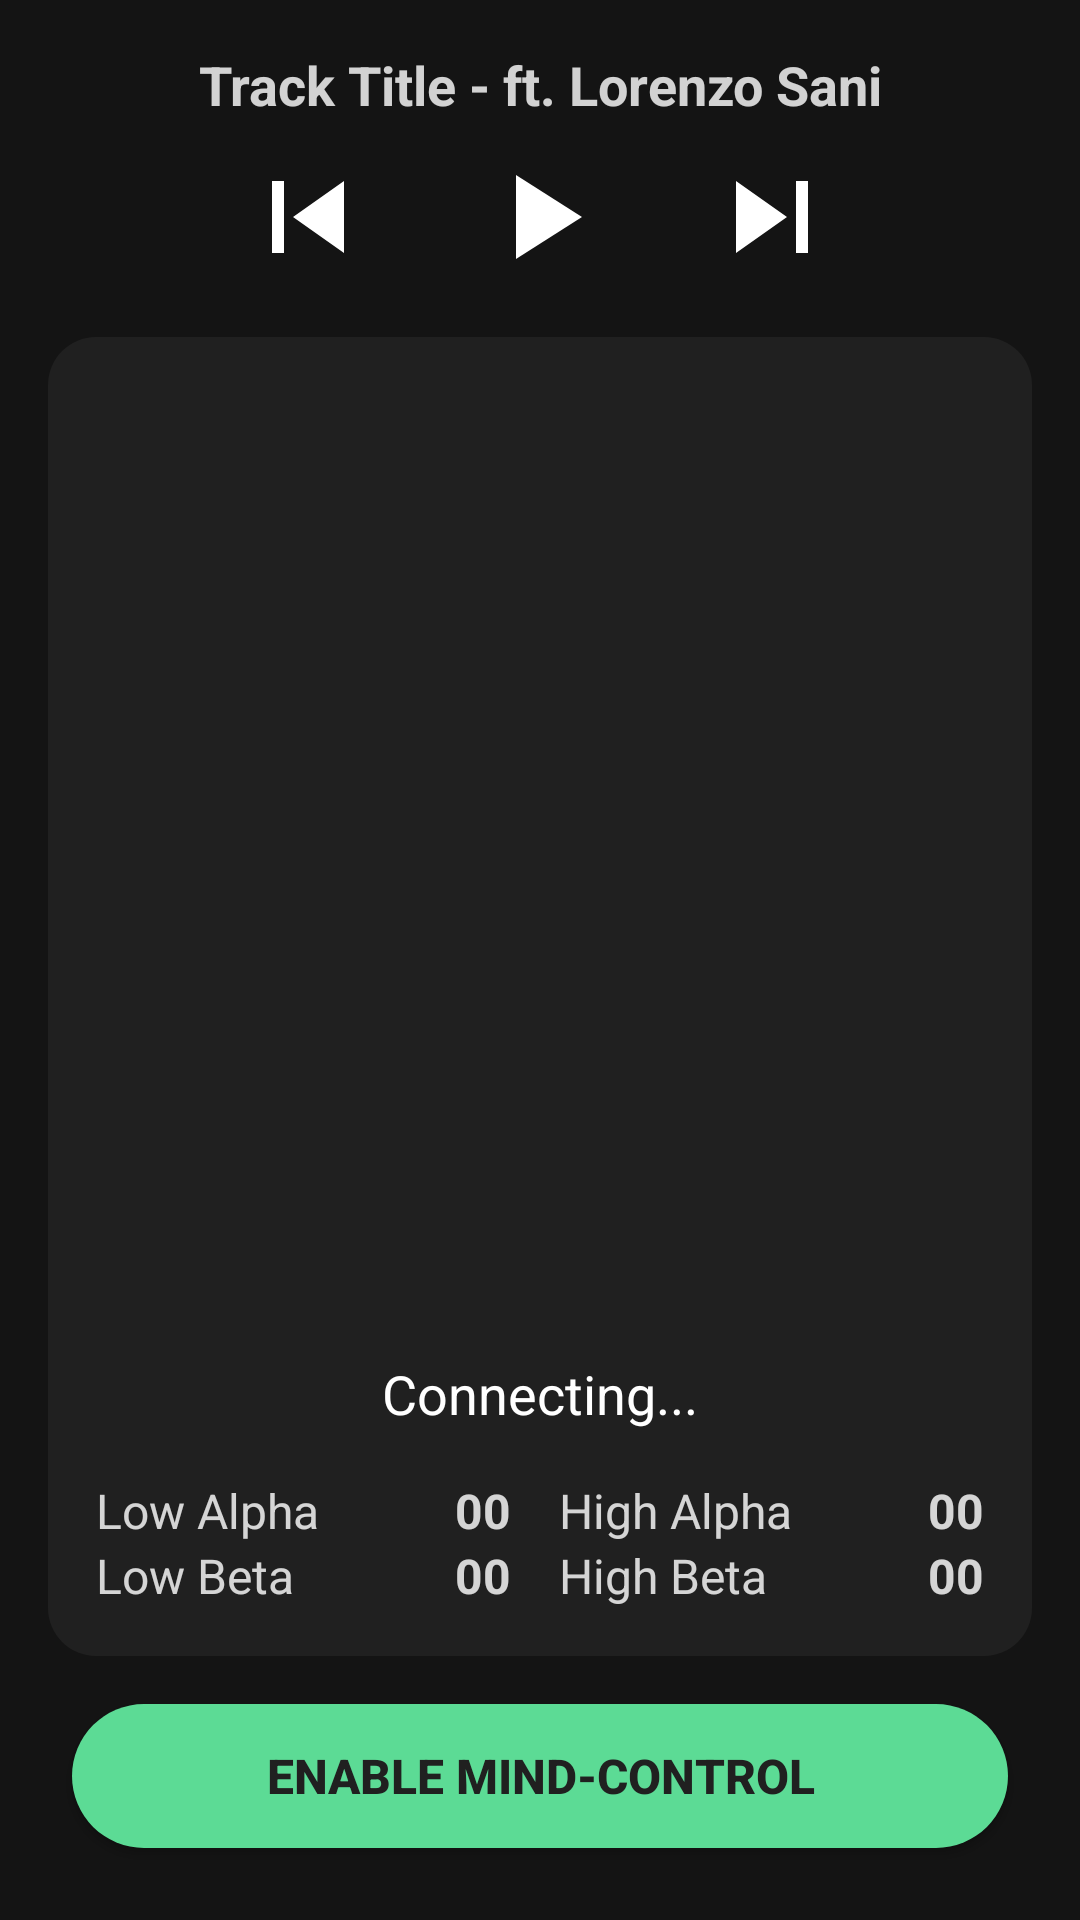

Icons on this 1080w x 1920h Android screen, each with its box as (x1, y1, x2, y2):
play: (516, 175, 582, 259)
skip next: (736, 181, 808, 253)
skip previous: (272, 181, 344, 253)
